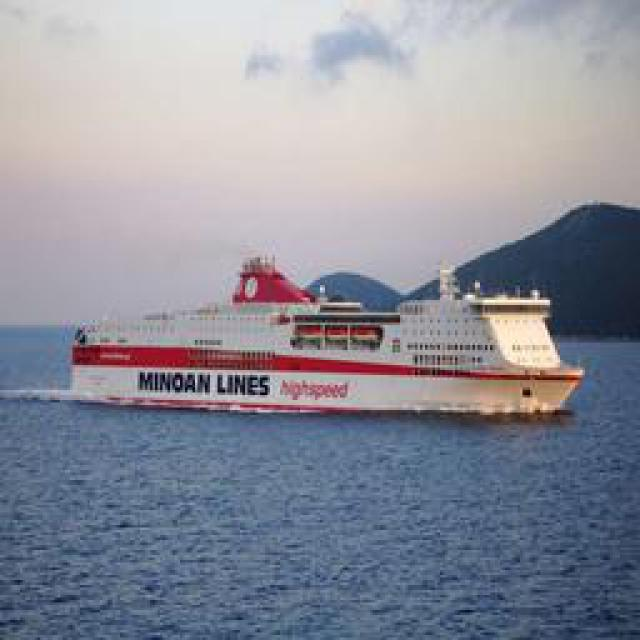Ship: (61, 273, 586, 421)
